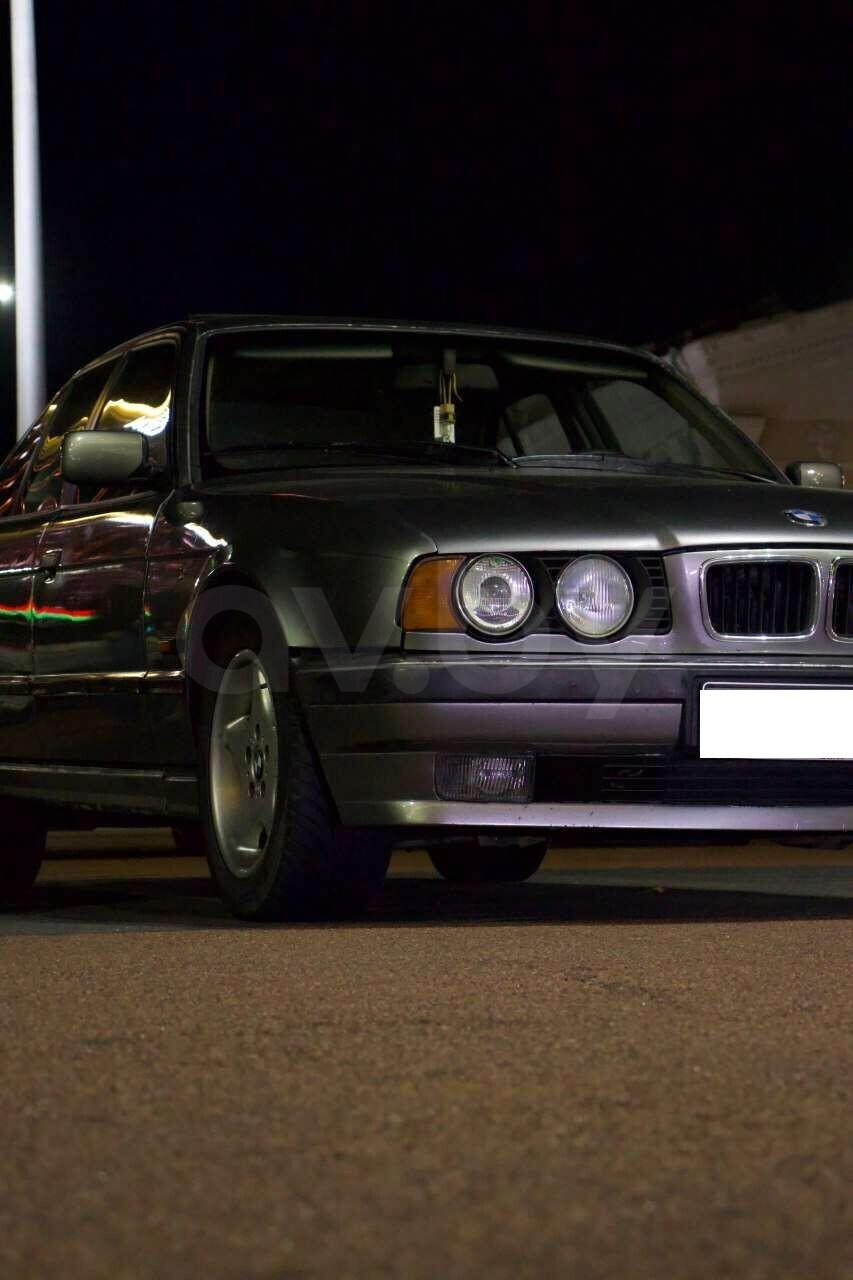BMW_E34_1995_2800: (0, 315, 852, 918)
